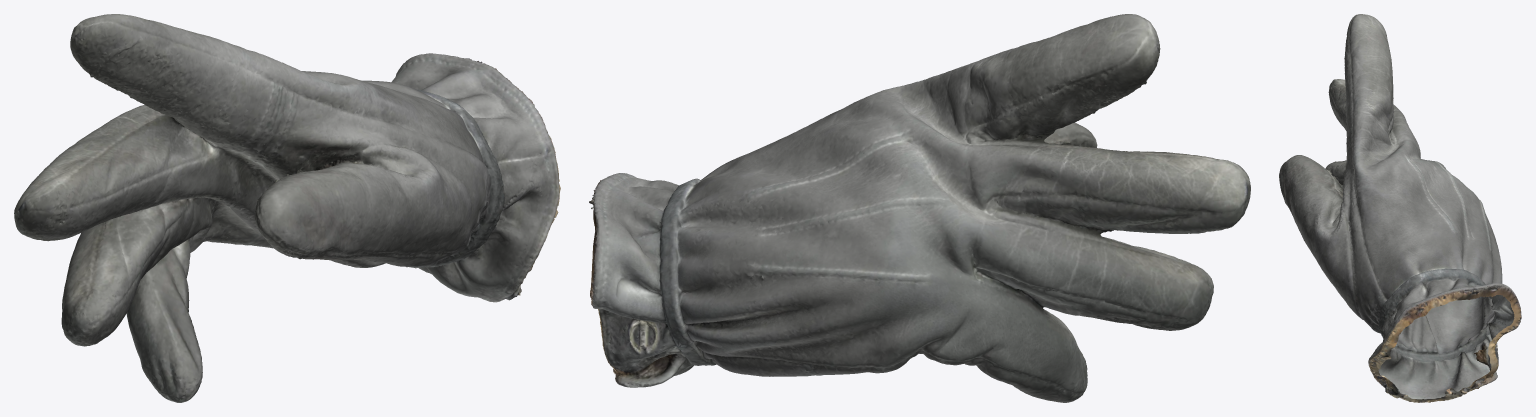
File: sf-leather-driving-gloves-3d-scan-e47dd2.glb
3 renders of one model, left to right at view 1: azimuth 30°, elevation 25°; view 2: azimuth 150°, elevation 25°; view 3: azimuth 270°, elevation 25°, orthographic. The views are drawn at different scales.
Parts seen in each view (by area): view 1: Object_2; view 2: Object_2; view 3: Object_2.
Boxes of the visible parts, x1,y1,x2,y2 form: Object_2: [14, 14, 560, 402]; Object_2: [589, 14, 1250, 402]; Object_2: [1279, 14, 1521, 402].
Bounding box in the file's own units: 8.71 × 6.07 × 5.14.
1 material, 1 textured.
